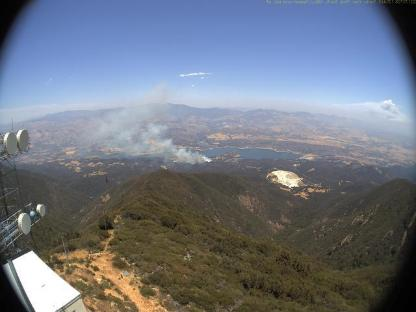smoke: (69, 78, 213, 166)
